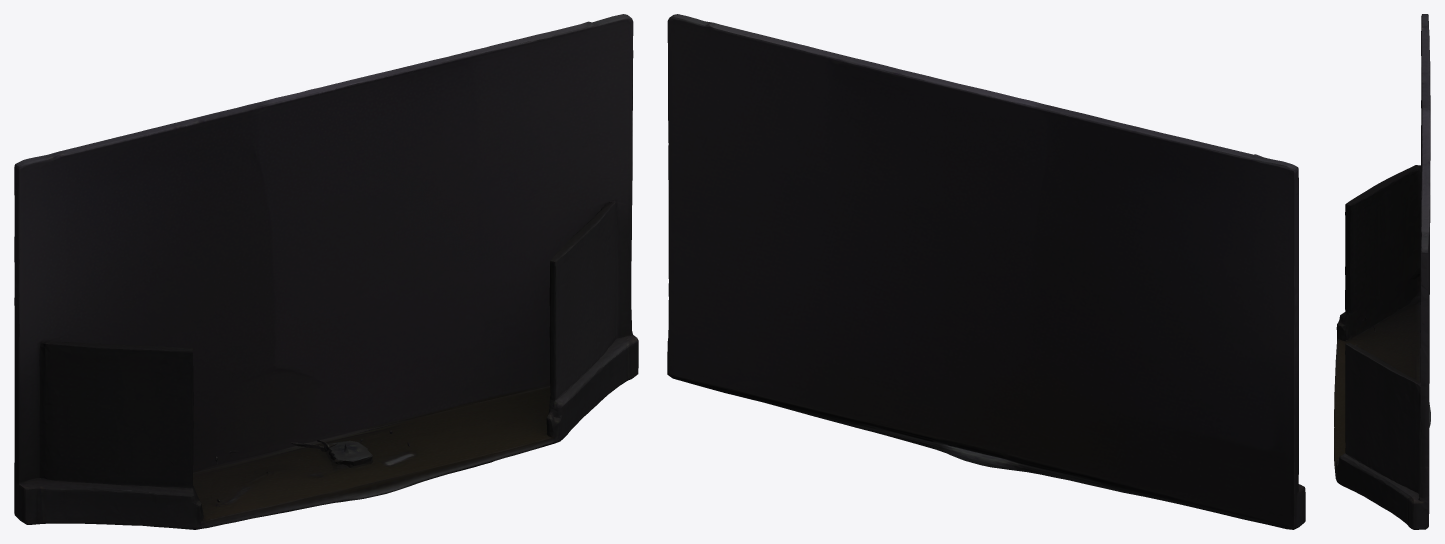
The picture shows the model from 3 angles, left to right: view 1: azimuth 30°, elevation 25°; view 2: azimuth 150°, elevation 25°; view 3: azimuth 270°, elevation 25°; orthographic projection. The views are drawn at different scales.
Visible parts, largest first — view 1: world; view 2: world; view 3: world.
Boxes of the visible parts, bbox=[...] form: world: bbox=[14, 14, 638, 529]; world: bbox=[667, 14, 1305, 529]; world: bbox=[1334, 14, 1430, 529].
Size of the model in its own units: 1 by 0.5687 by 0.1727.
1 material, 1 textured.
